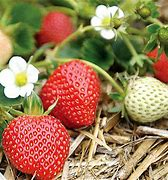Fresa: (1, 111, 72, 180), (41, 60, 102, 129)
